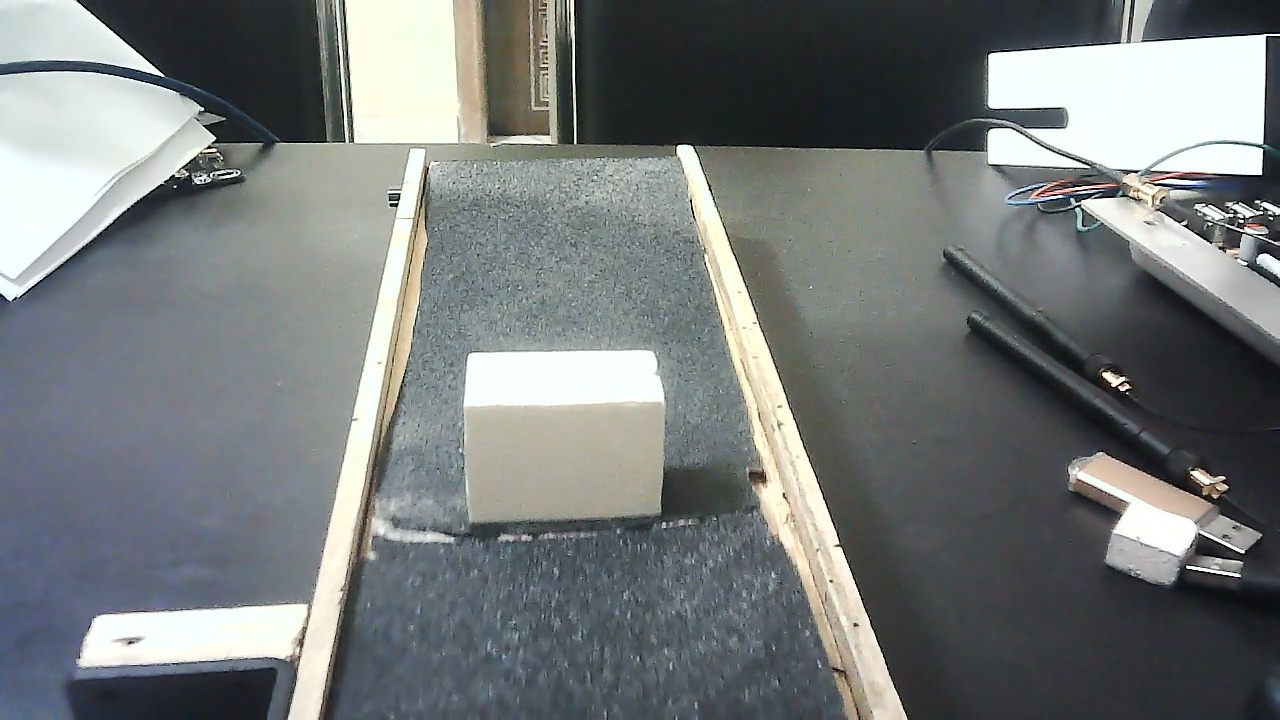BIG: (462, 339, 663, 540)
